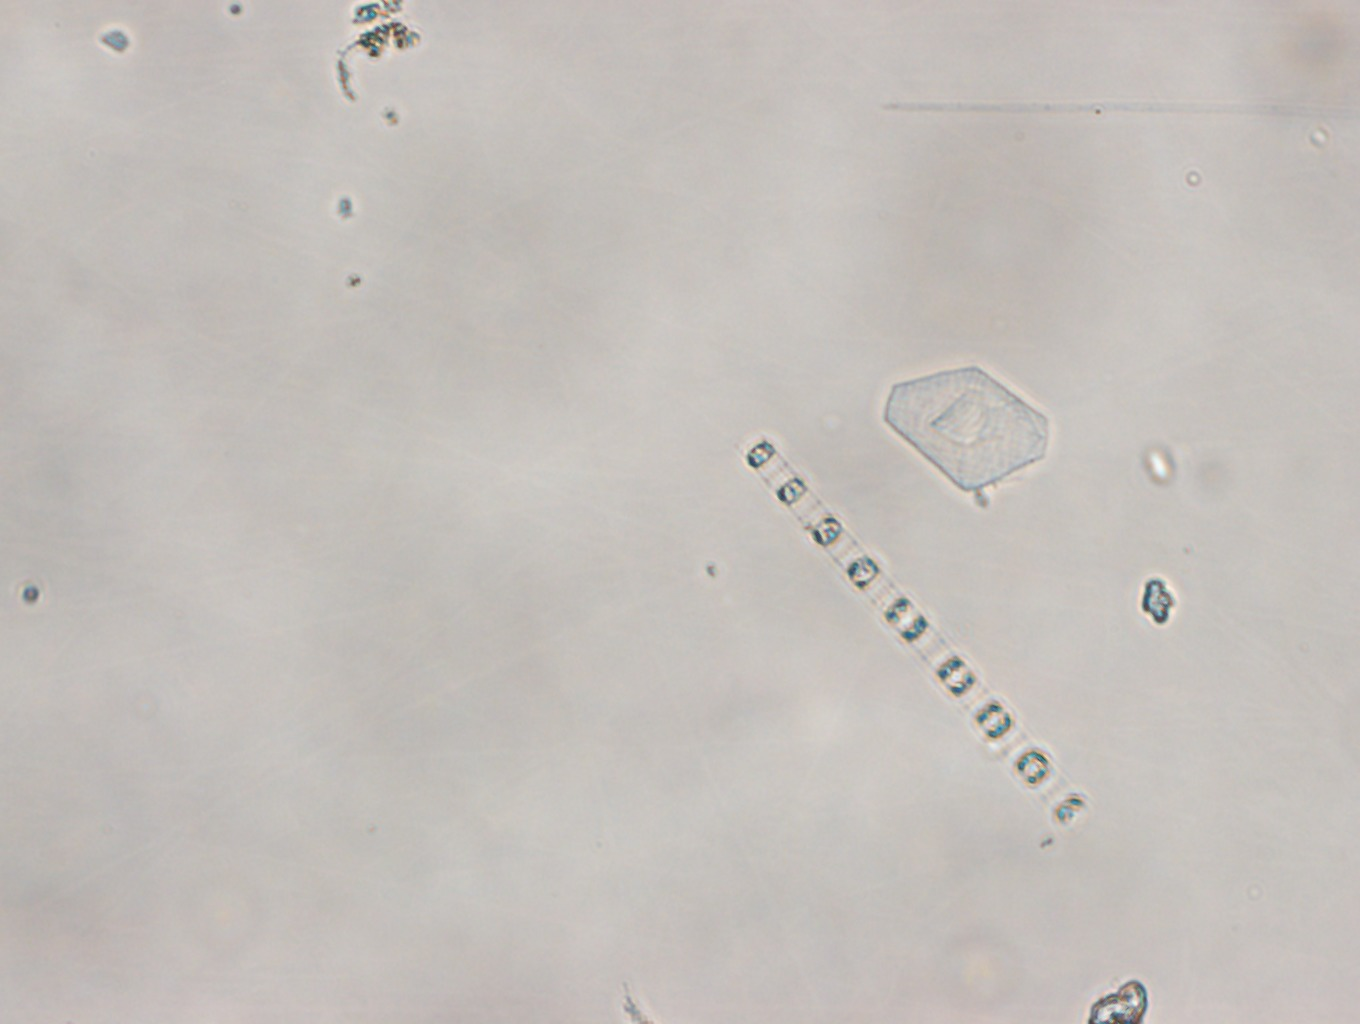skeletonema: (736, 431, 1093, 834)
